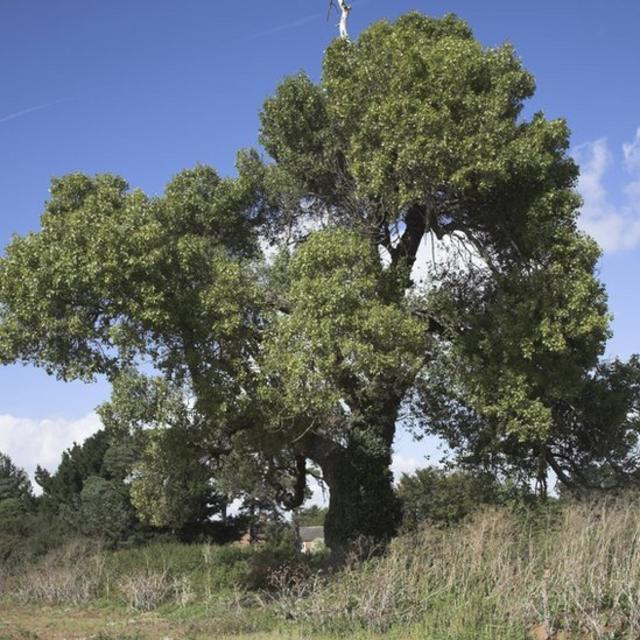Populus nigra: (0, 10, 616, 559)
